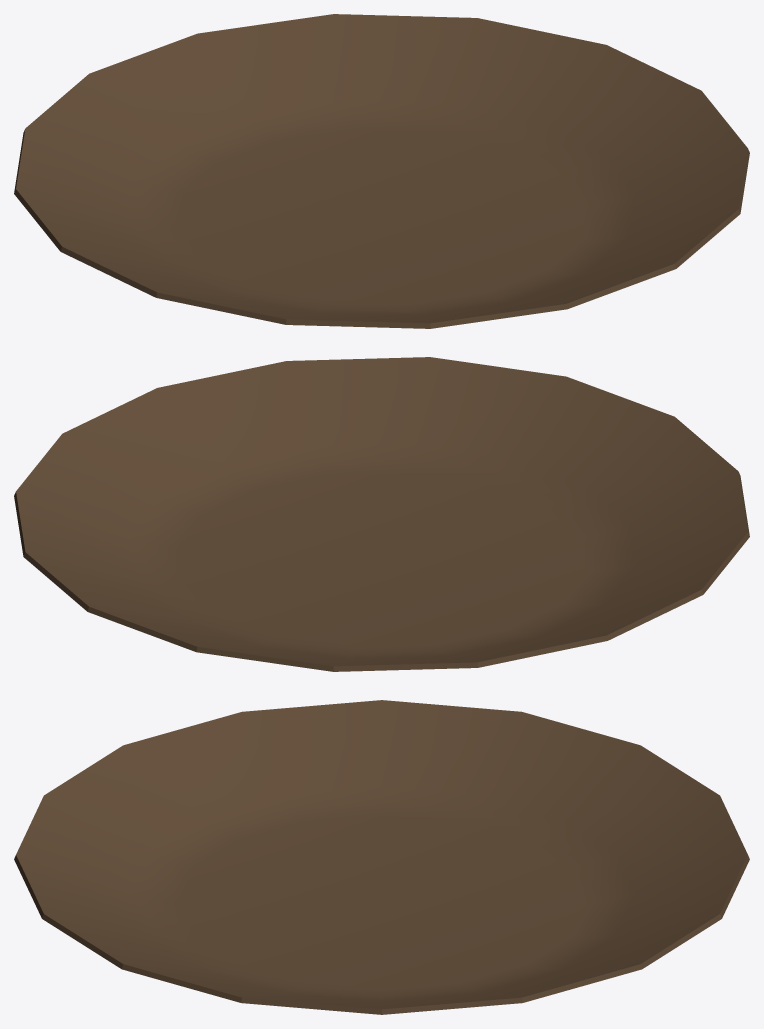
The model's file is plate3.fbx.
3 renders of one model, top to bottom at view 1: azimuth 30°, elevation 25°; view 2: azimuth 150°, elevation 25°; view 3: azimuth 270°, elevation 25°, orthographic.
Parts seen in each view (by area): view 1: plate3; view 2: plate3; view 3: plate3.
Boxes of the visible parts, x1,y1,x2,y2 form: plate3: (14,14,749,328); plate3: (14,357,749,671); plate3: (14,700,749,1014).
Size of the model in its own units: 0.3655 by 0.029 by 0.3655.
